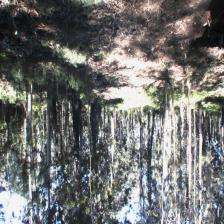trunktrack_idkeyframe: (186, 80, 192, 146), (72, 102, 80, 149), (196, 101, 202, 149)
